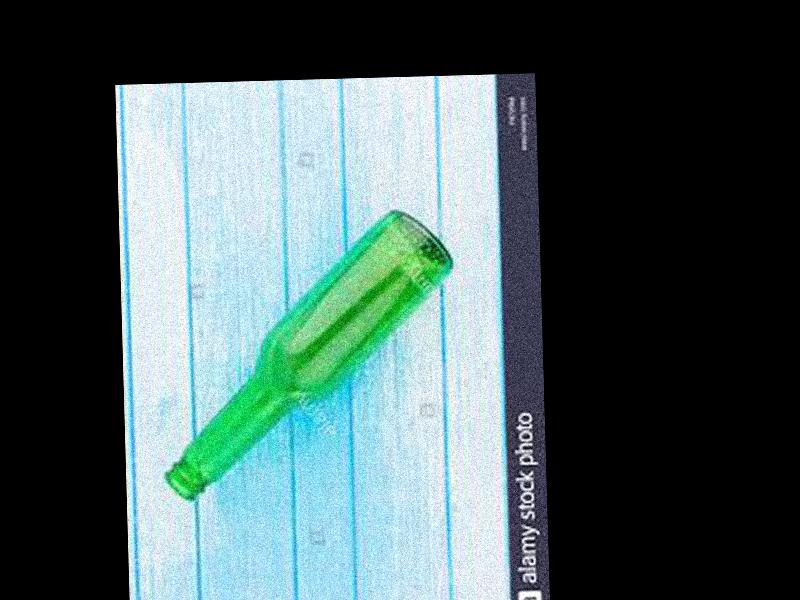Beer: (156, 205, 464, 504)
